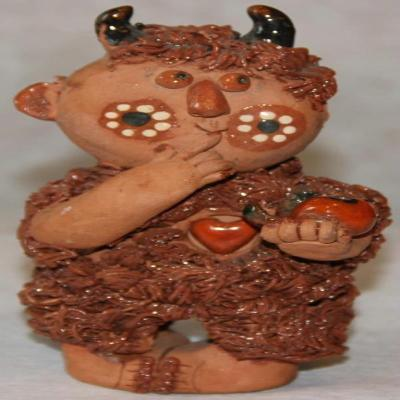sculpture: (22, 6, 389, 395)
